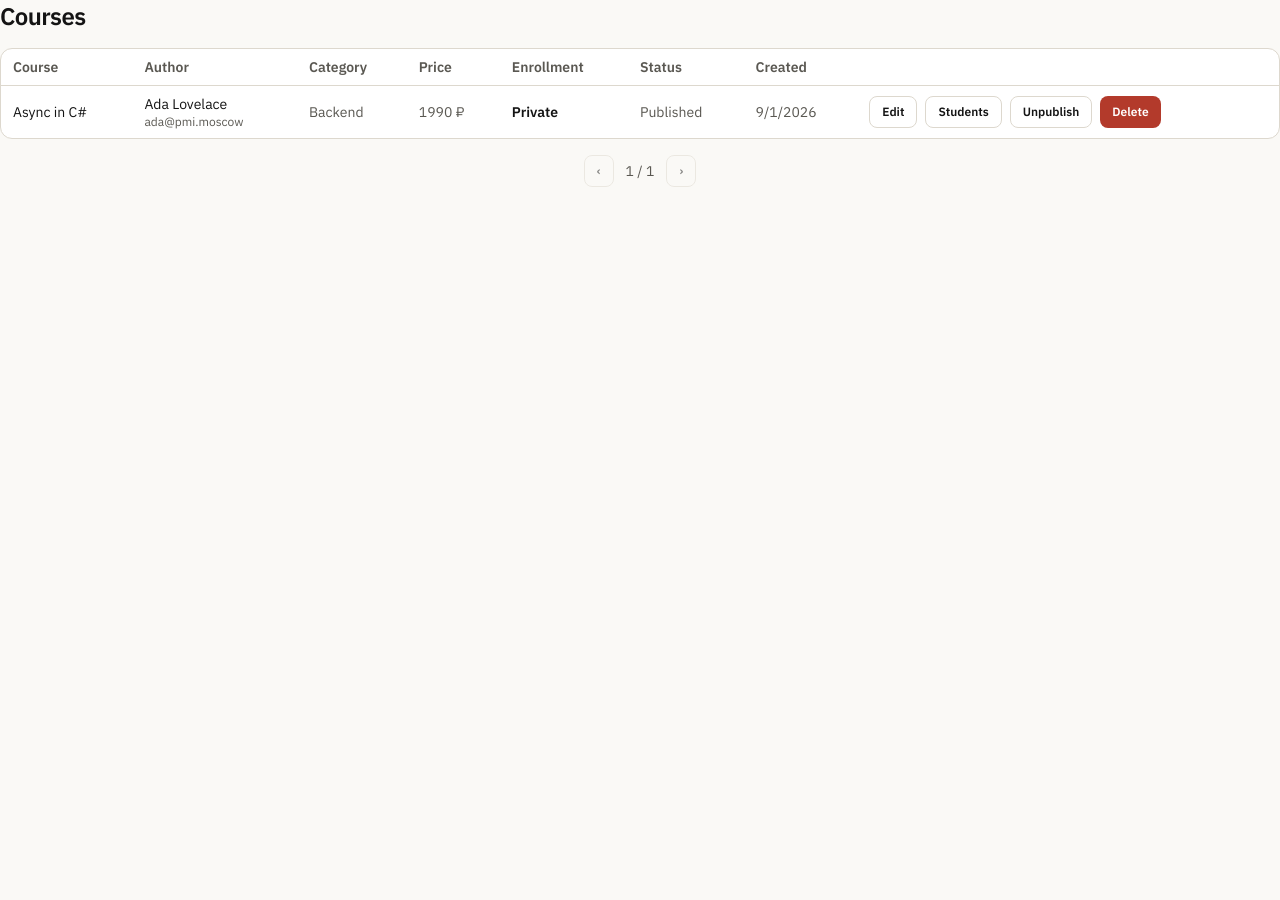
it: AdminCoursesView › warns with the amount paid before removing a paying student
Expected: the text "Async in C#" is shown, [1, 86, 132, 138]
Step 1. Click the button "Students" → (964, 112), box [925, 96, 1002, 128]
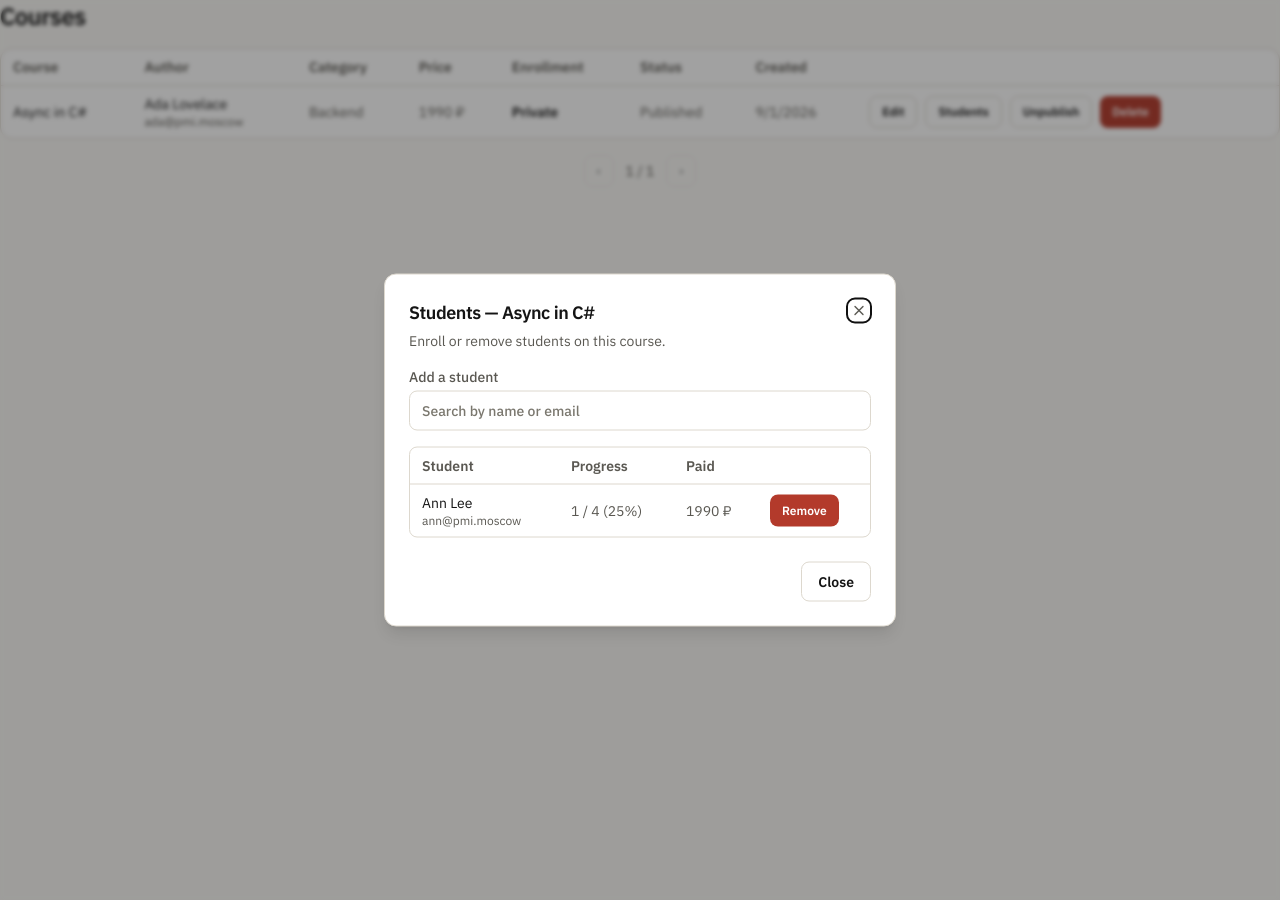
Now the text "Ann Lee" is shown, box [422, 494, 472, 512]
Step 2. Click the button "Remove" → (804, 510), box [770, 494, 839, 526]
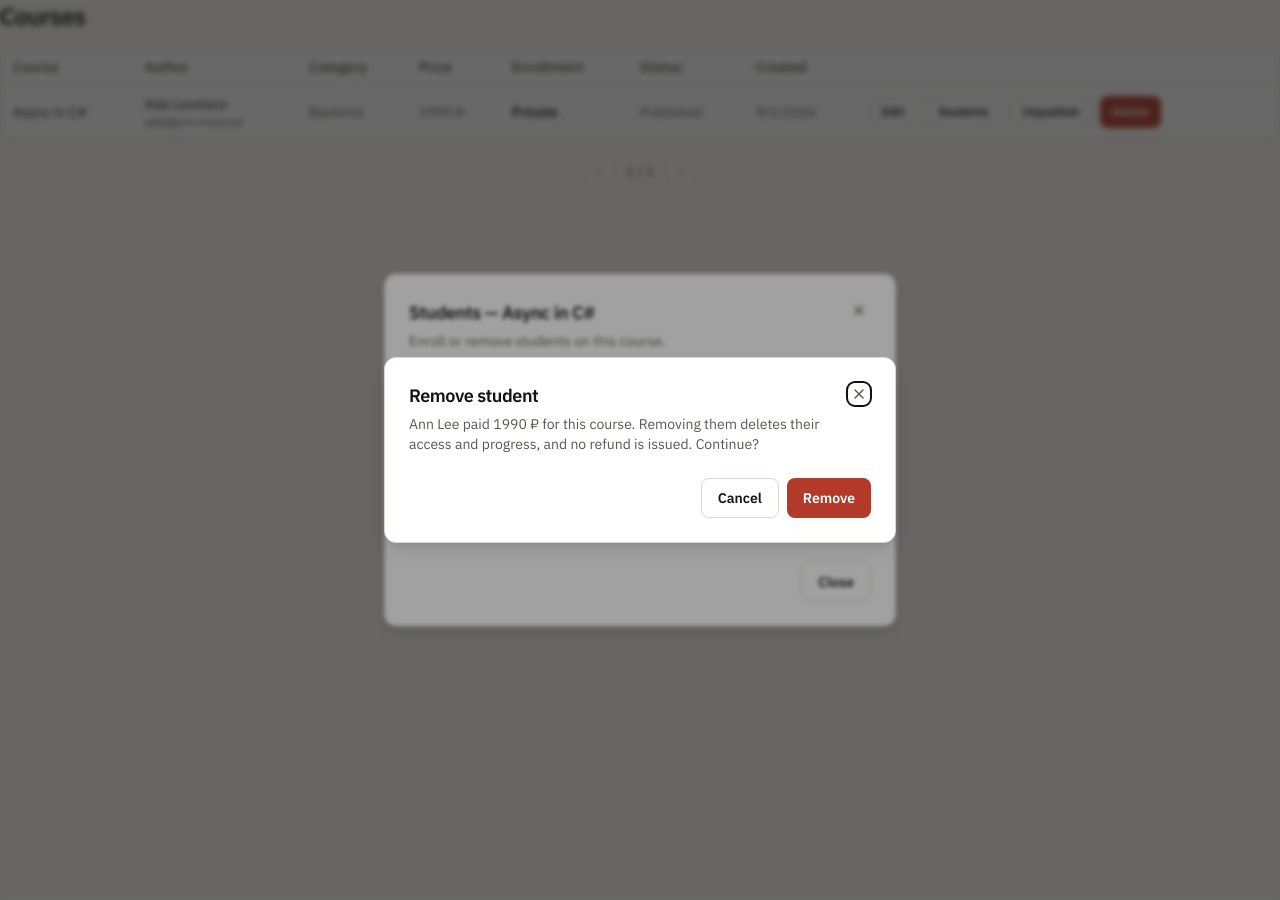
Now the text "no refund is issued" is shown, box [409, 415, 819, 453]
